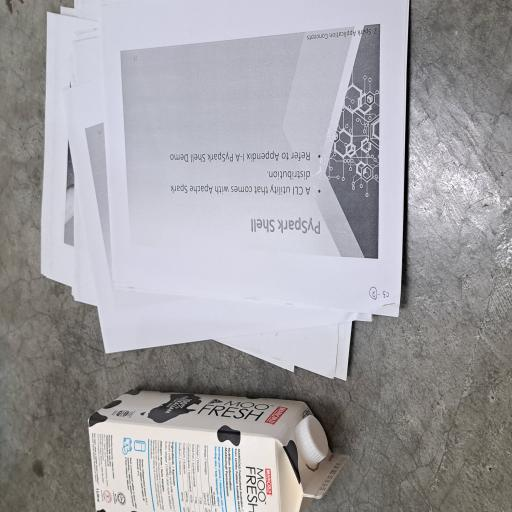drink carton: (0, 115, 95, 466), (35, 396, 73, 438)
paper: (99, 54, 383, 512)
